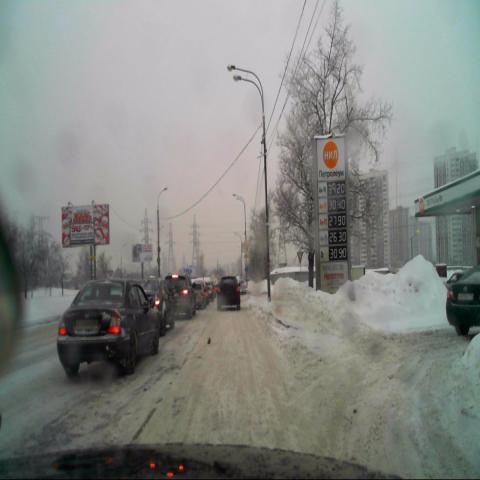2_4: (296, 250, 304, 263)
